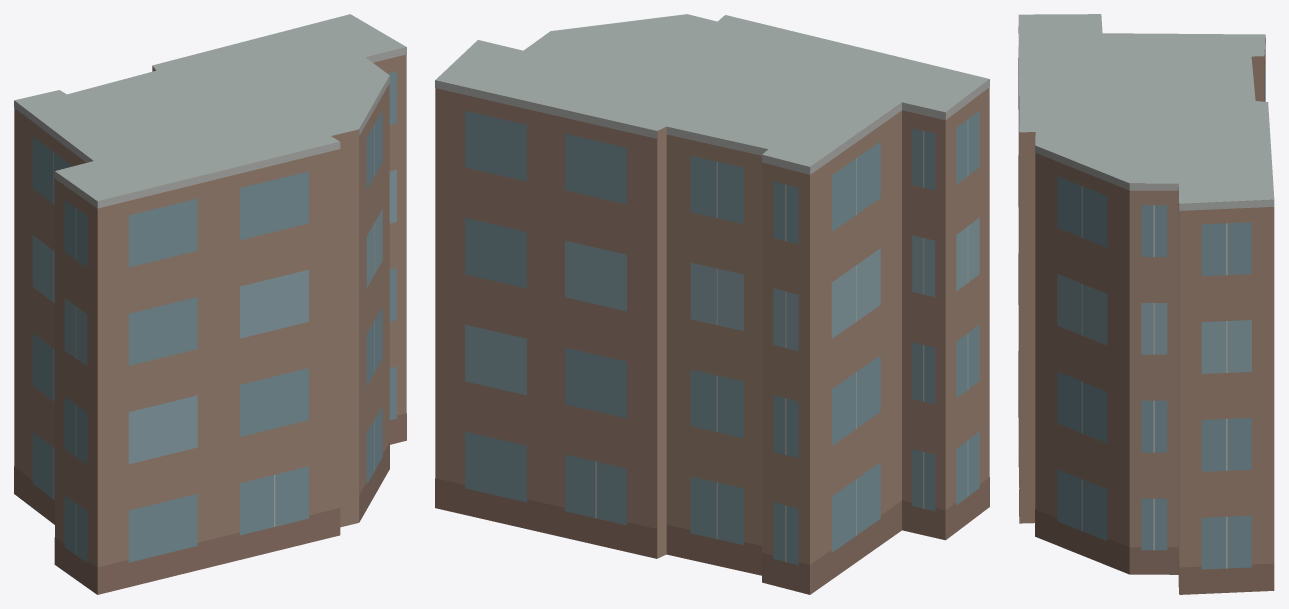
Rendered from survey-upis-32472343.glb.
3 renders of one model, left to right at view 1: azimuth 30°, elevation 25°; view 2: azimuth 150°, elevation 25°; view 3: azimuth 270°, elevation 25°, orthographic. The views are drawn at different scales.
Visible parts, largest first — view 1: survey-upis-32472343.tmp; view 2: survey-upis-32472343.tmp; view 3: survey-upis-32472343.tmp.
Part boxes in pixels (bbox=[...]): survey-upis-32472343.tmp: bbox=[14, 14, 406, 594]; survey-upis-32472343.tmp: bbox=[435, 14, 989, 594]; survey-upis-32472343.tmp: bbox=[1018, 14, 1274, 594].
Bounding box in the file's own units: 13.74 × 13.2 × 7.83.
